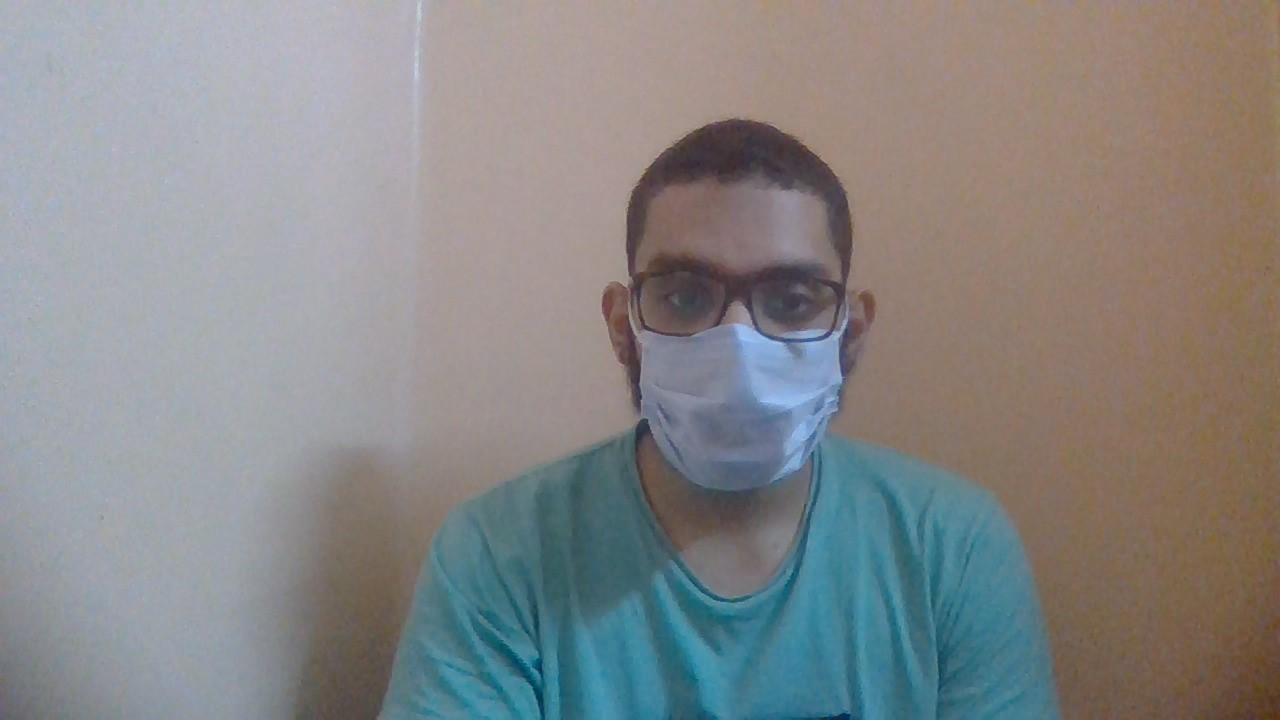mask: (597, 309, 886, 494)
